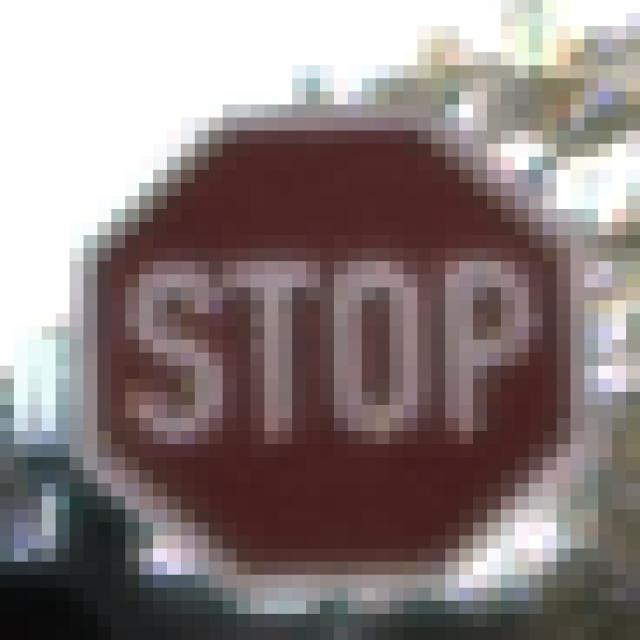STOP: (71, 79, 572, 576)
